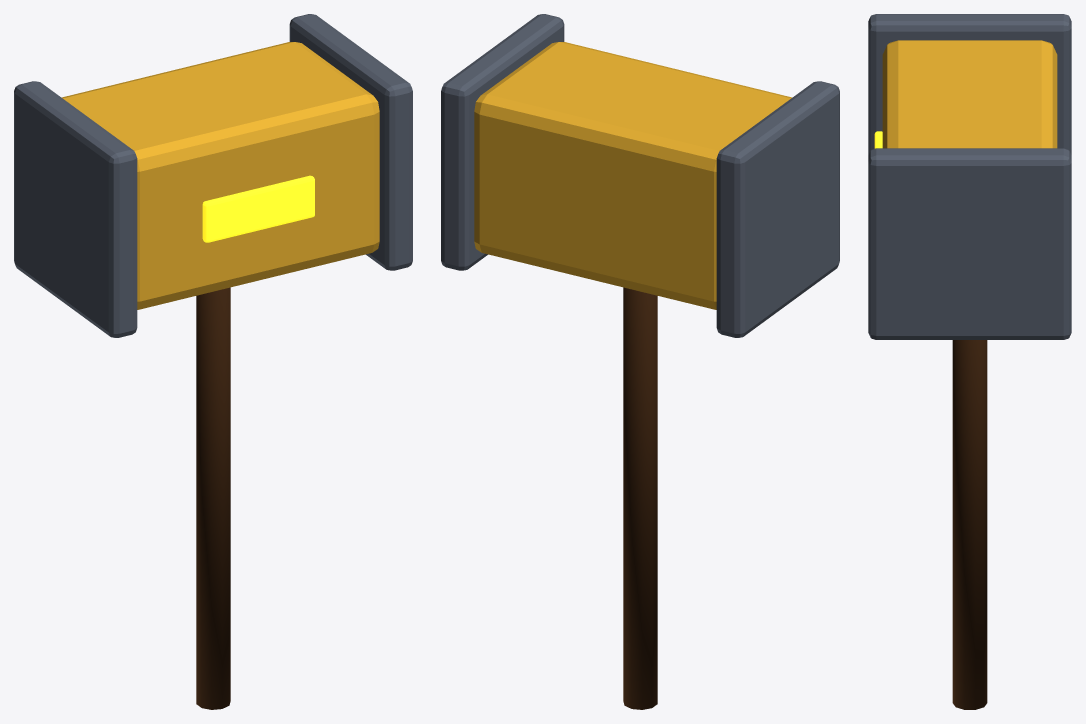
File: hammer.glb
3 views of the same model, side by side, from view 1: azimuth 30°, elevation 25°; view 2: azimuth 150°, elevation 25°; view 3: azimuth 270°, elevation 25° (orthographic).
Parts seen in each view (by area): view 1: head, capL, shaft, capR, rune; view 2: head, capL, shaft, capR; view 3: capR, head, shaft, capL.
Part boxes in pixels (bbox=[...]): head: bbox=[61, 42, 379, 309]; capL: bbox=[14, 81, 137, 337]; shaft: bbox=[196, 287, 230, 709]; capR: bbox=[289, 14, 412, 270]; rune: bbox=[202, 175, 314, 242]; head: bbox=[474, 42, 792, 309]; capL: bbox=[716, 81, 839, 337]; shaft: bbox=[623, 287, 657, 709]; capR: bbox=[441, 14, 564, 270]; capR: bbox=[868, 148, 1071, 339]; head: bbox=[882, 40, 1057, 148]; shaft: bbox=[952, 340, 987, 709]; capL: bbox=[868, 14, 1071, 154].
Bounding box in the file's own units: 1.1 × 2.14 × 0.64.
